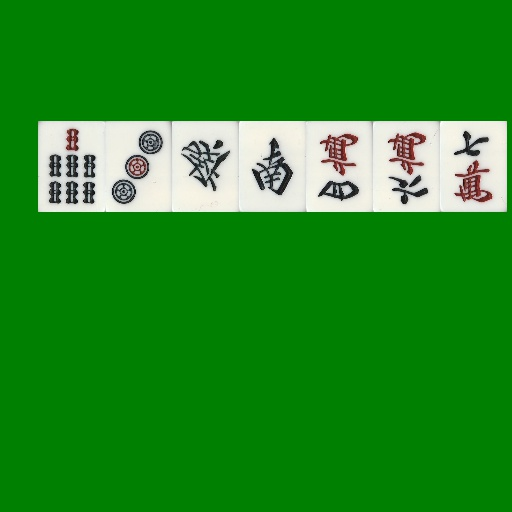3p: (105, 121, 172, 212)
4m: (306, 121, 373, 212)
6m: (373, 121, 440, 212)
7m: (440, 121, 507, 212)
7s: (38, 121, 105, 212)
hatsu: (172, 121, 239, 212)
south: (239, 121, 306, 212)
